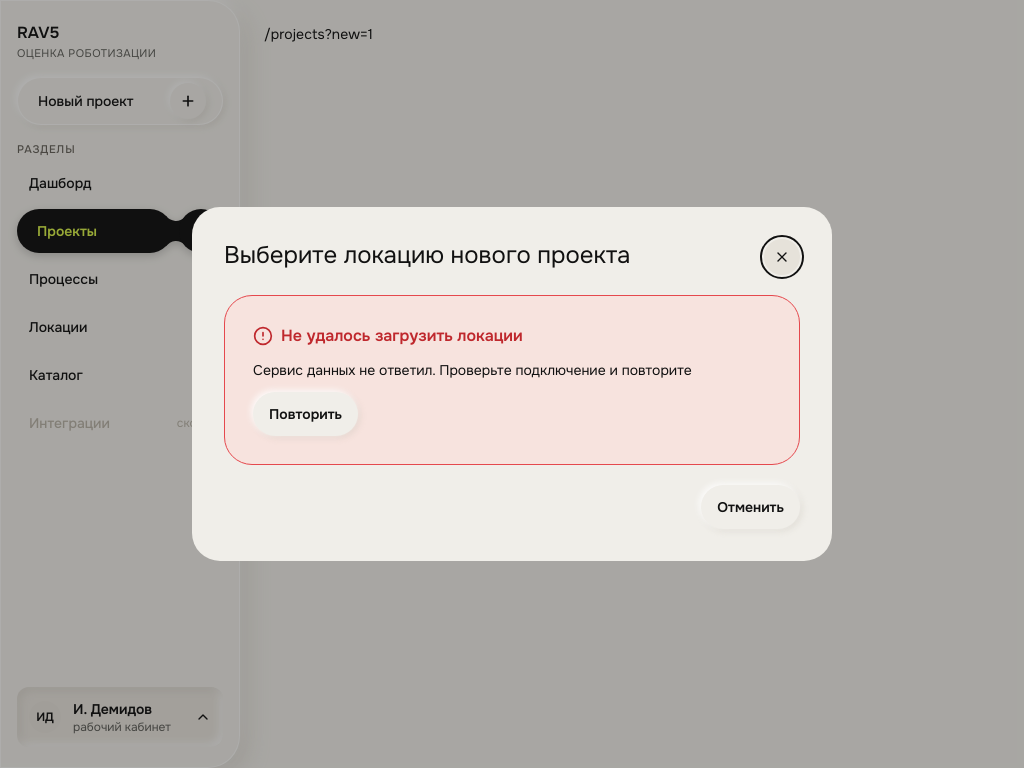
Test case: NewProjectDialog (A2) › shows a retryable error when locations fail to load
The width and height of the screenshot is (1024, 768).
Click the button "Повторить" at (306, 414), box top-left (253, 392), bottom-right (358, 436)
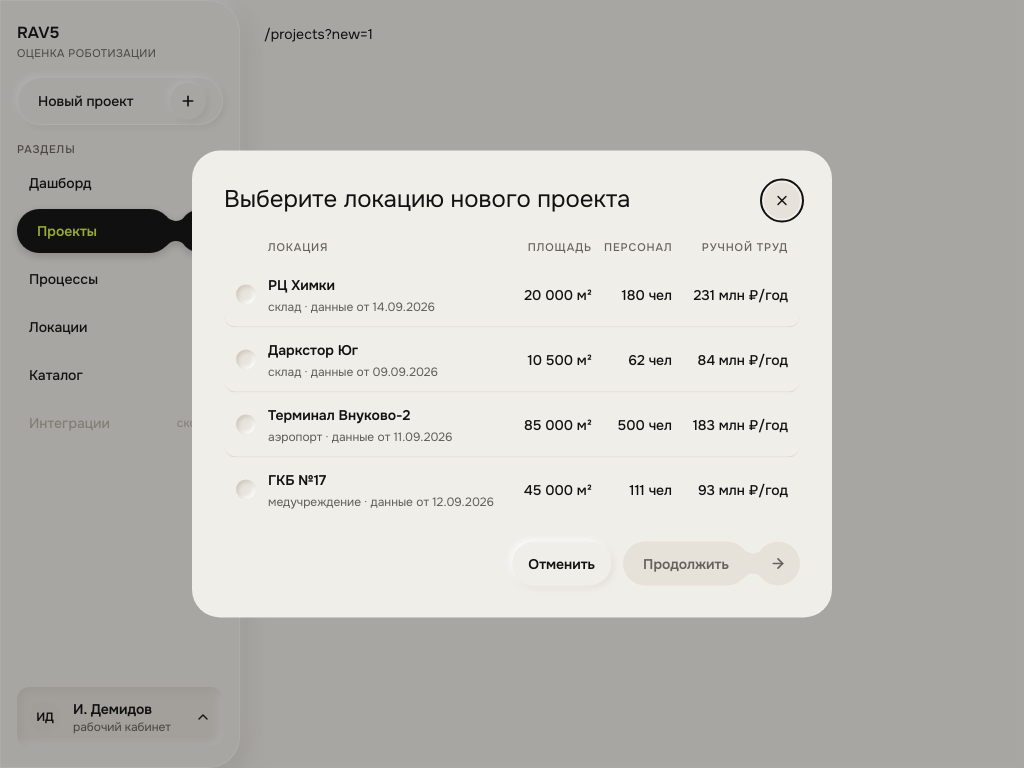
Check: the number of radio buttons is 4, box top-left (224, 262), bottom-right (800, 328); top-left (224, 328), bottom-right (800, 392); top-left (224, 392), bottom-right (800, 458); top-left (224, 458), bottom-right (800, 522)
